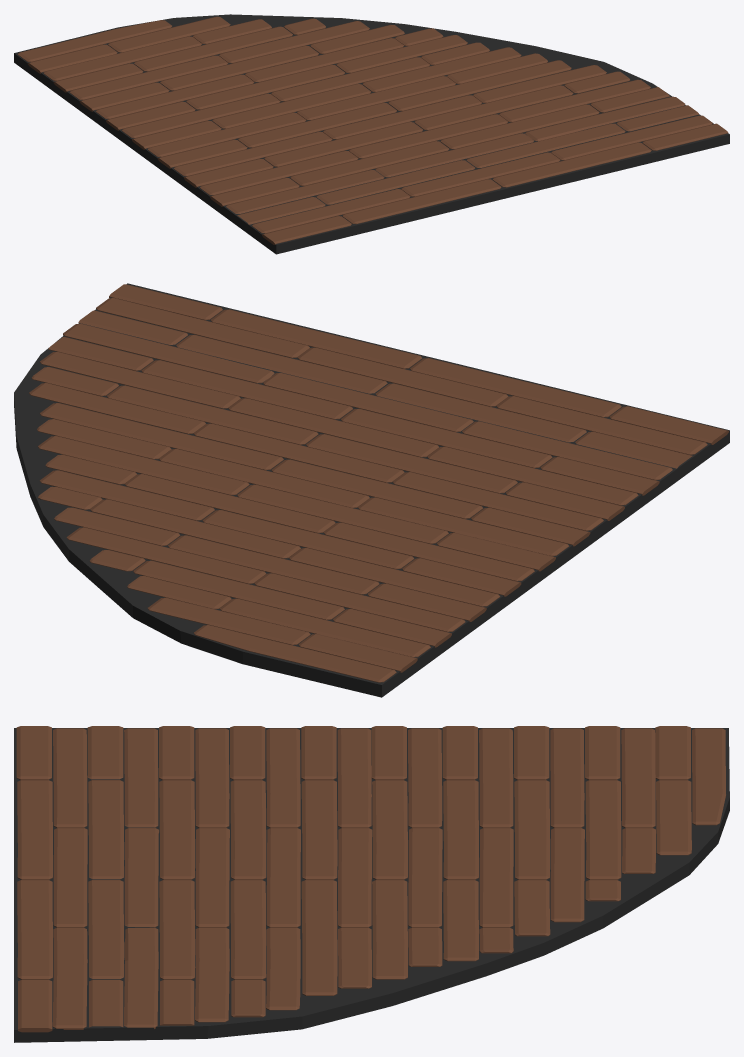
File: WoodenGroundRound.fbx
The picture shows the model from 3 angles, top to bottom: view 1: azimuth 30°, elevation 25°; view 2: azimuth 150°, elevation 25°; view 3: azimuth 270°, elevation 25°; orthographic projection. The views are drawn at different scales.
Parts seen in each view (by area): view 1: WoodenGround; view 2: WoodenGround; view 3: WoodenGround.
Boxes of the visible parts, x1,y1,x2,y2 form: WoodenGround: (14,14,729,254); WoodenGround: (14,283,729,697); WoodenGround: (14,726,729,1042).
Bounding box in the file's own units: 505 × 11.47 × 506.
Materials: 1 (1 with a texture image).
